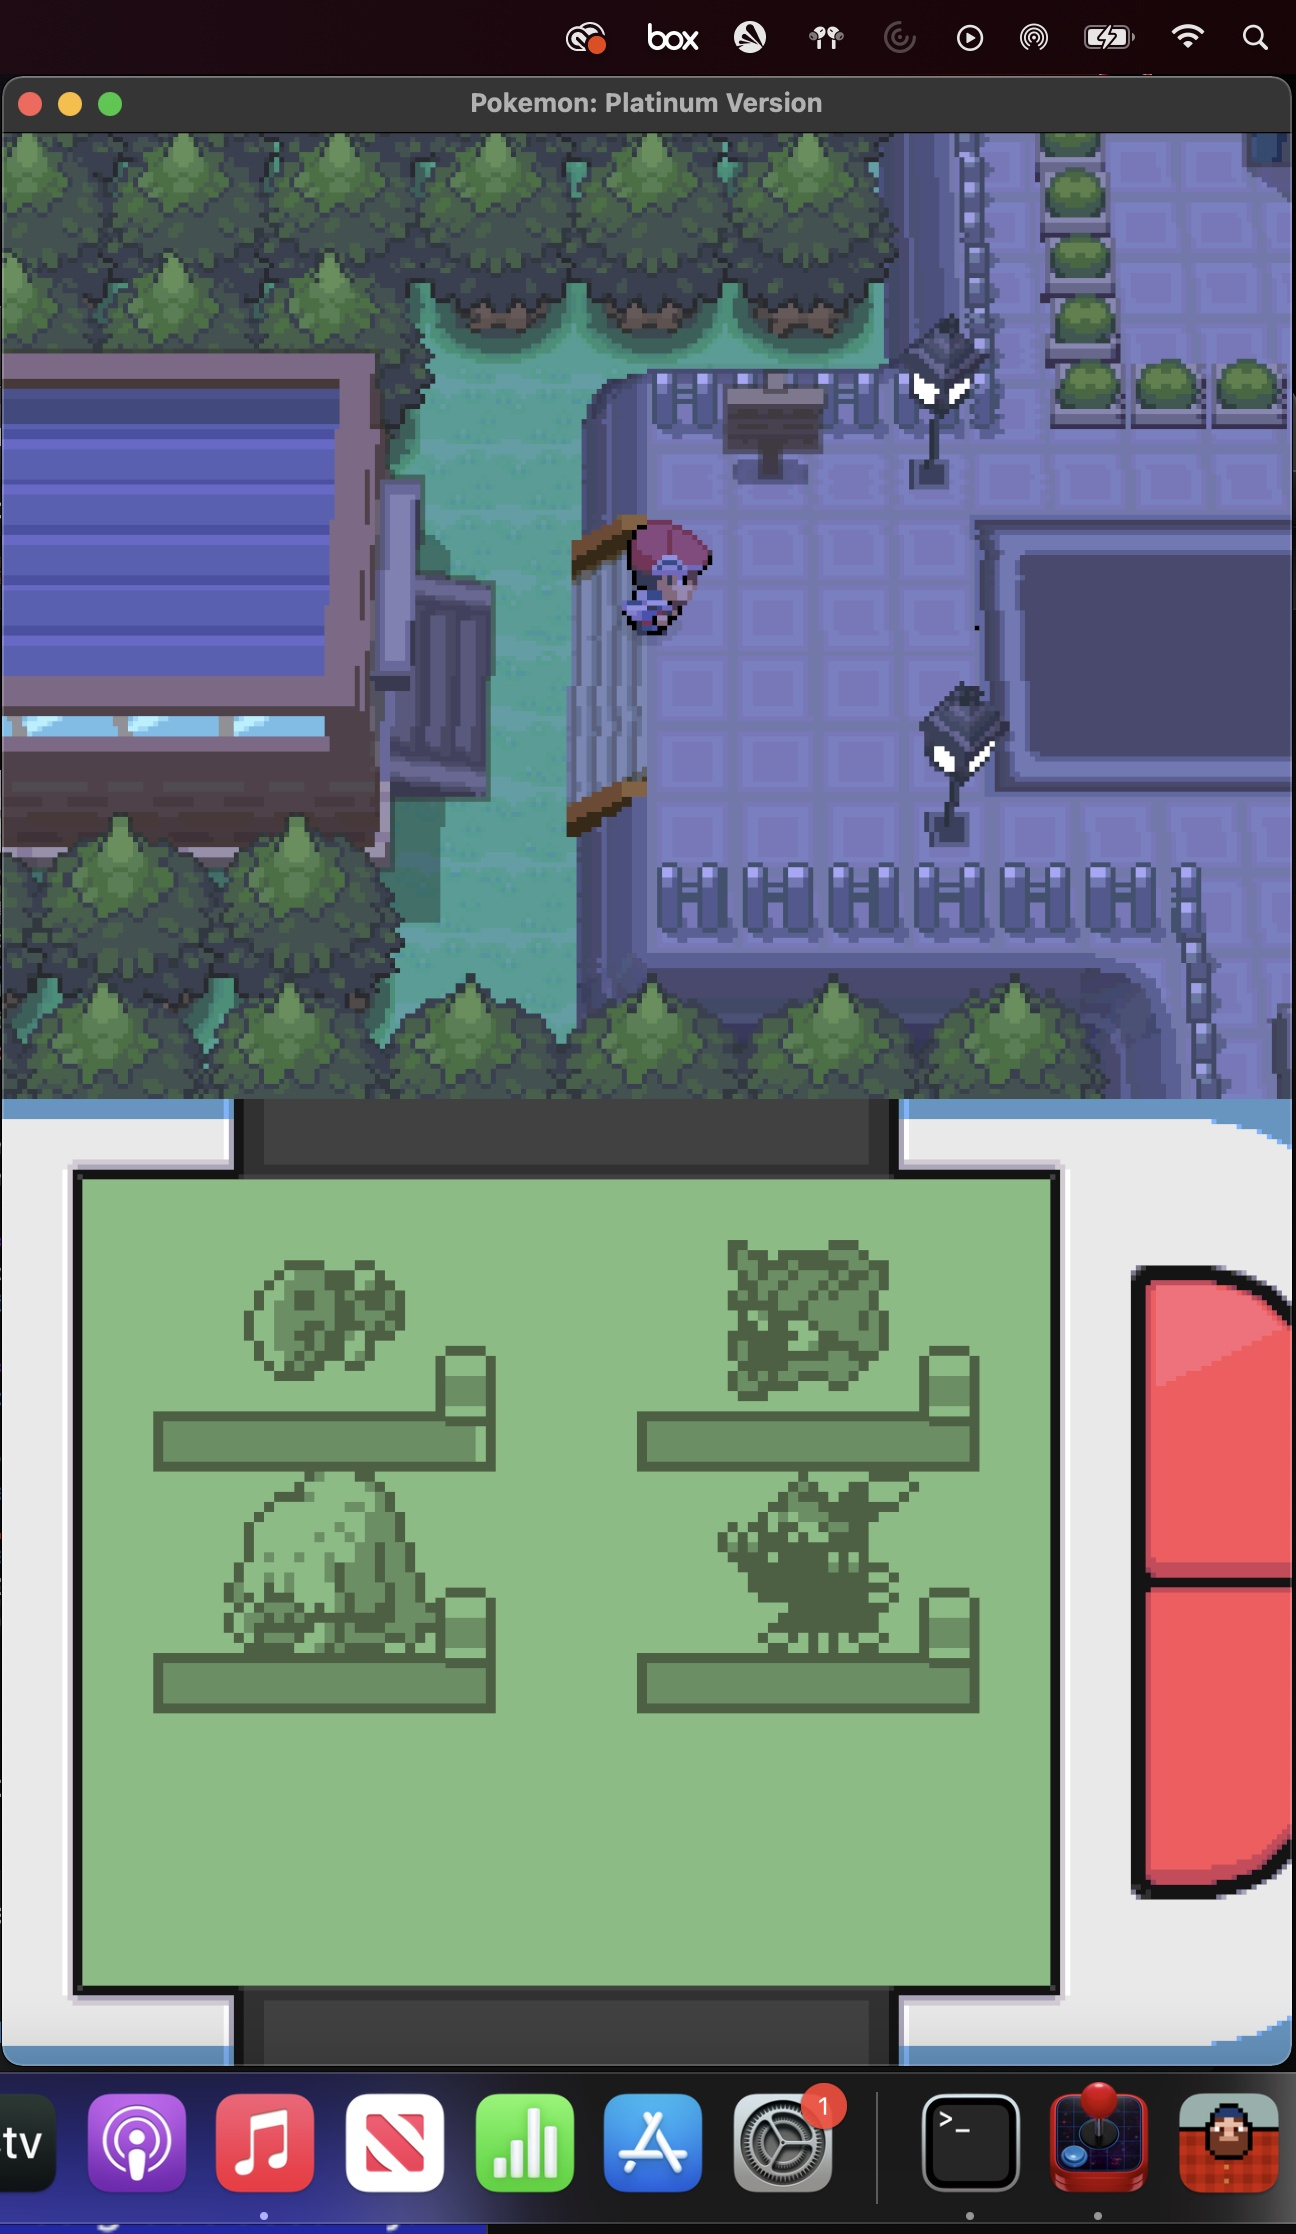player: (616, 507, 708, 651)
turn right: (699, 313, 989, 509)
